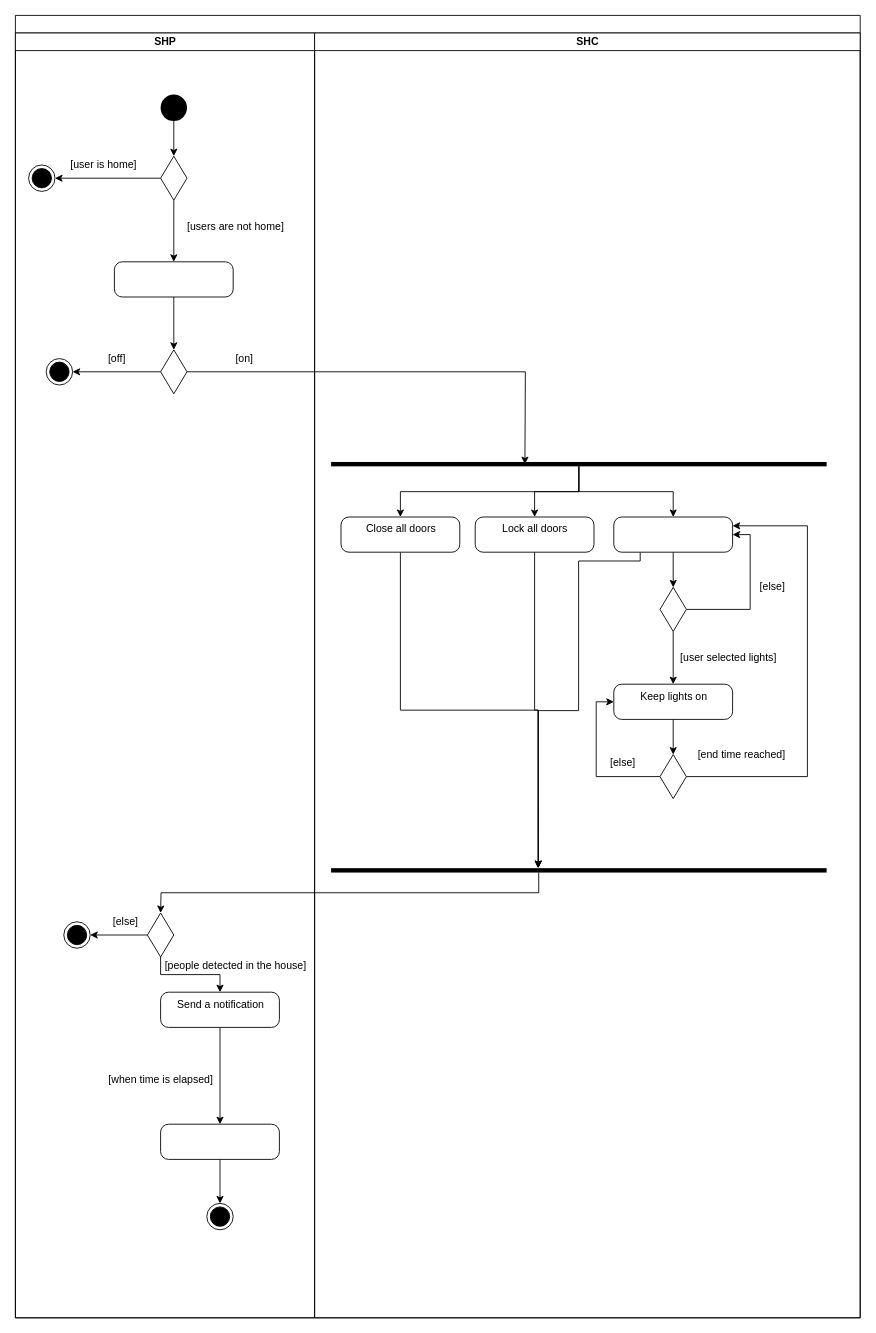
Image size: 876x1333. Some labels were removed from this diagram. Each missing label, with the box of its shape:
Call the authorities: (160, 1123, 279, 1159)
Set away mode: (114, 261, 233, 297)
Turn lights off: (613, 516, 733, 552)
